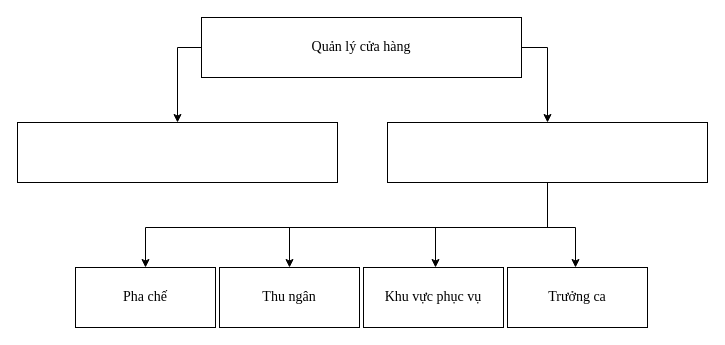
Some shapes in this 725 by 345 pixel diagram are drawn without their labels. Here are the shapes that lost their labels. From the top down, the centre of each, then its label:
(x=177, y=152): Nhân viên Bán thời gian - Toàn thời gian
(x=547, y=152): Phân công vị trí làm việc theo từng ca
